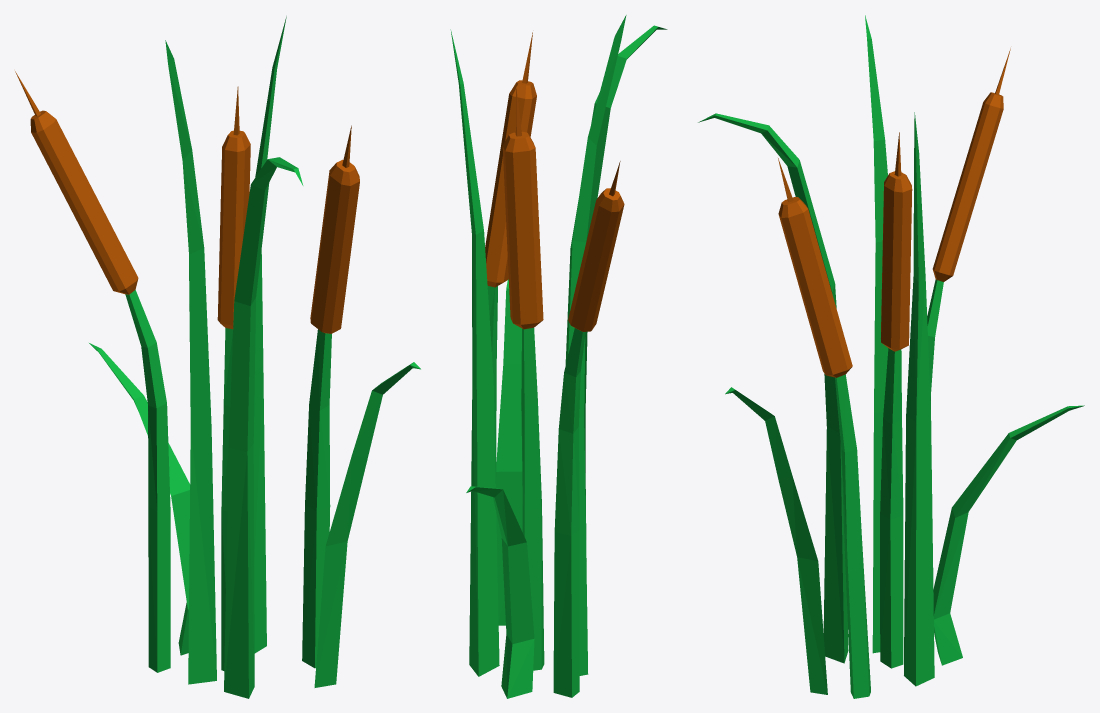
File: cattail.glb
3 views of the same model, side by side, from view 1: azimuth 30°, elevation 25°; view 2: azimuth 150°, elevation 25°; view 3: azimuth 270°, elevation 25° (orthographic). The views are drawn at different scales.
Parts seen in each view (by area): view 1: Cattail.001; view 2: Cattail.001; view 3: Cattail.001.
Part boxes in pixels (bbox=[...]): Cattail.001: bbox=[15, 16, 420, 698]; Cattail.001: bbox=[450, 15, 667, 698]; Cattail.001: bbox=[698, 15, 1084, 698].
Bounding box in the file's own units: 0.5416 × 1.34 × 0.7701.
